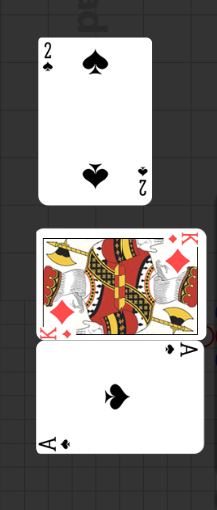2S: (42, 41, 55, 74)
AS: (162, 342, 199, 359)
KD: (166, 230, 200, 245)
